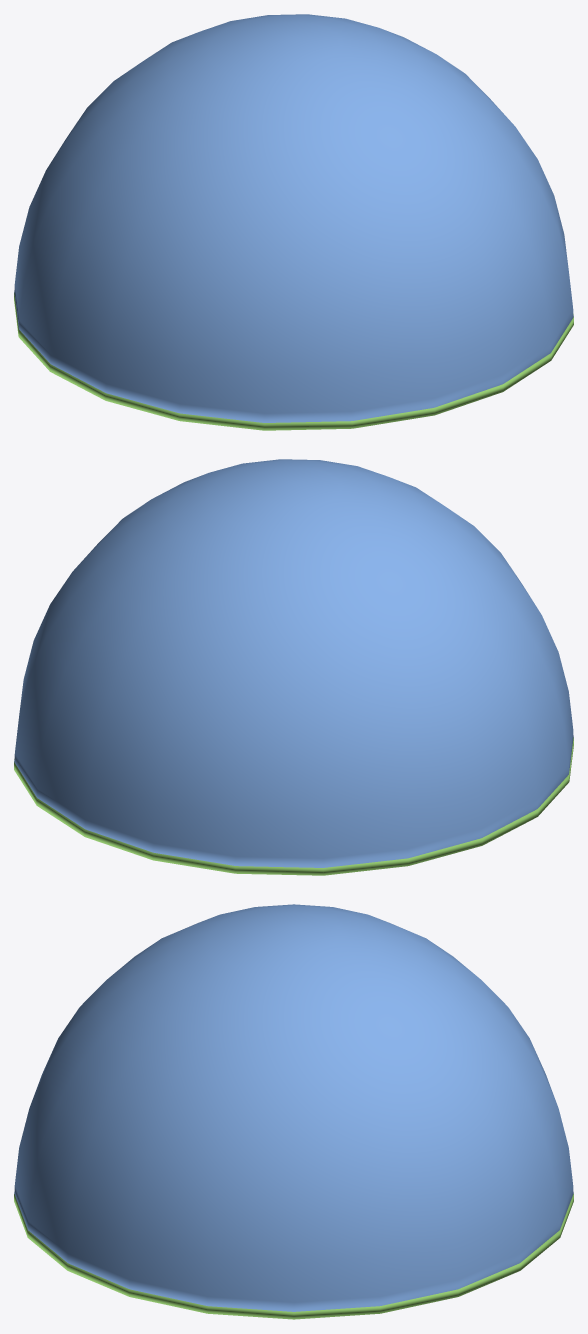
Rendered from swing.dae.
The picture shows the model from 3 angles, top to bottom: view 1: azimuth 30°, elevation 25°; view 2: azimuth 150°, elevation 25°; view 3: azimuth 270°, elevation 25°; orthographic projection.
Parts seen in each view (by area): view 1: polySurface25; view 2: polySurface25; view 3: polySurface25.
Part boxes in pixels (left/top/right/bottom): polySurface25: left=14, top=14, right=573, bottom=430; polySurface25: left=14, top=459, right=573, bottom=875; polySurface25: left=14, top=904, right=573, bottom=1319.
Bounding box in the file's own units: 137 × 74.1 × 137.
